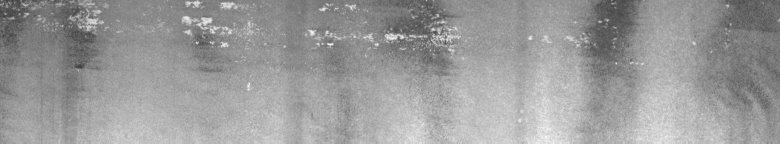hc: (4, 4, 109, 72)
